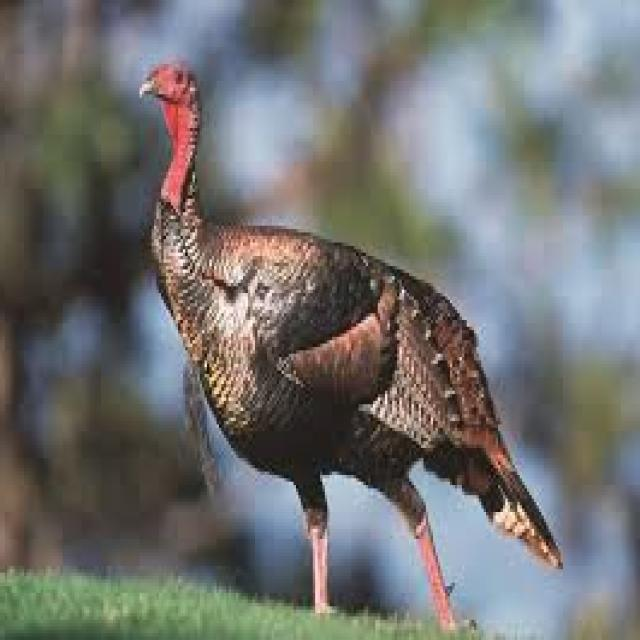turkey: (142, 64, 563, 627)
